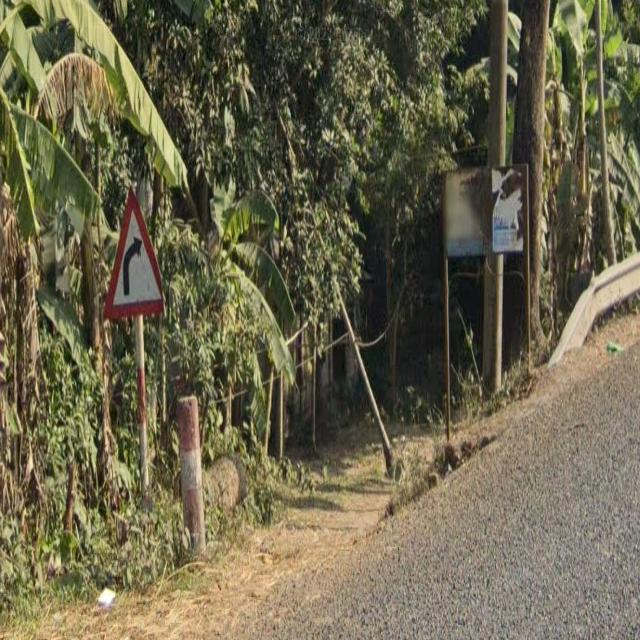Right-turn: (102, 188, 164, 319)
